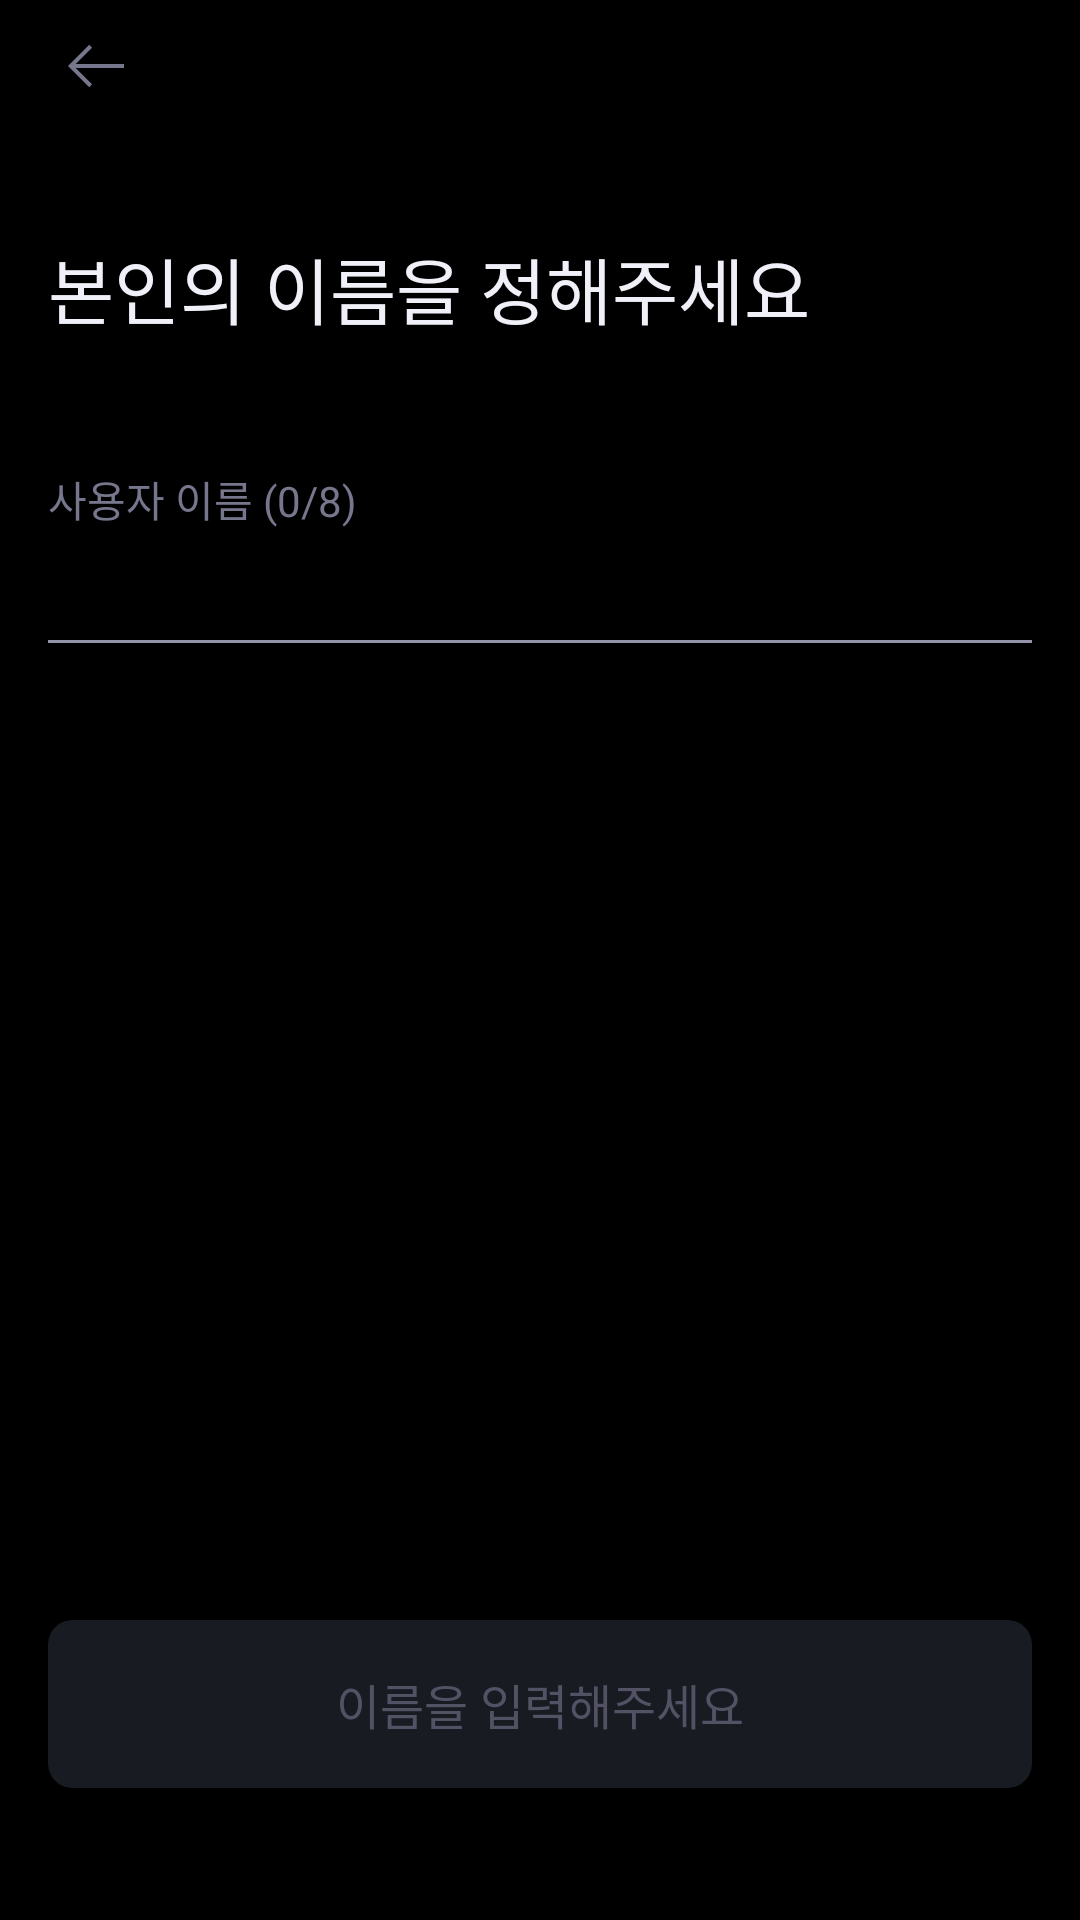

Point at icon controls on the screen. Image size 1080px x 1920px, points as (x,y).
back: (96,66)
